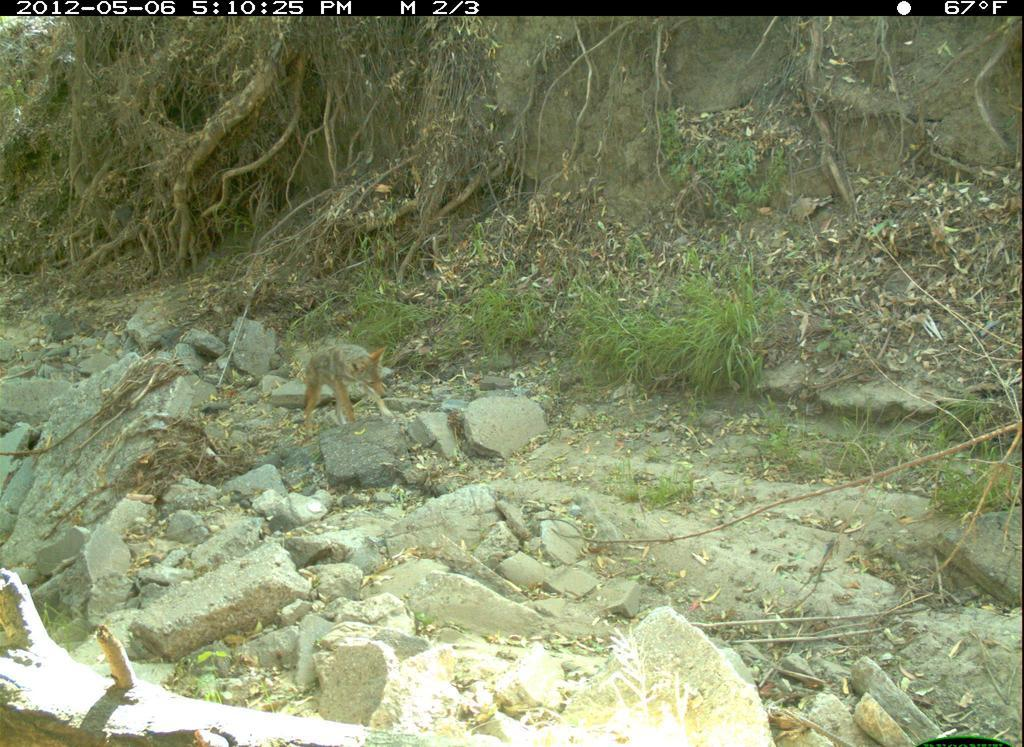coyote: (282, 331, 434, 454)
